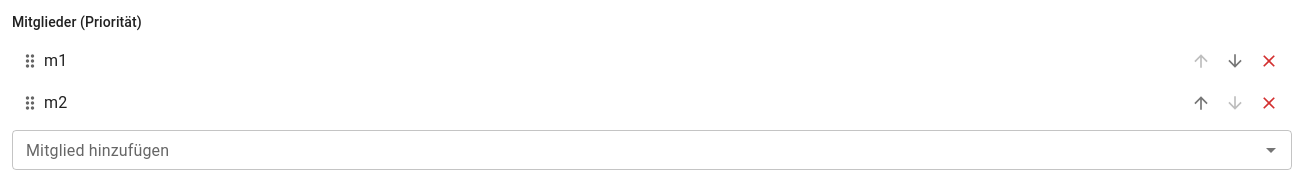
Test case: removes a member
Click the button named "Mitglied entfernen: m1" at (1269, 61), box x1=1254 y1=46 x2=1284 y2=76
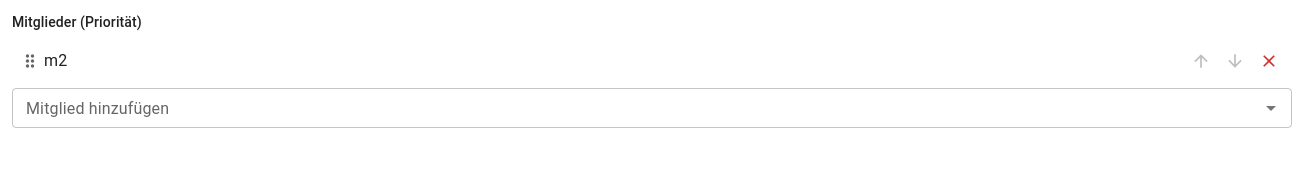
Expected: the text "m2" is shown, x1=44 y1=51 x2=67 y2=70
Now the number of list items is 1, box x1=12 y1=42 x2=1291 y2=80
